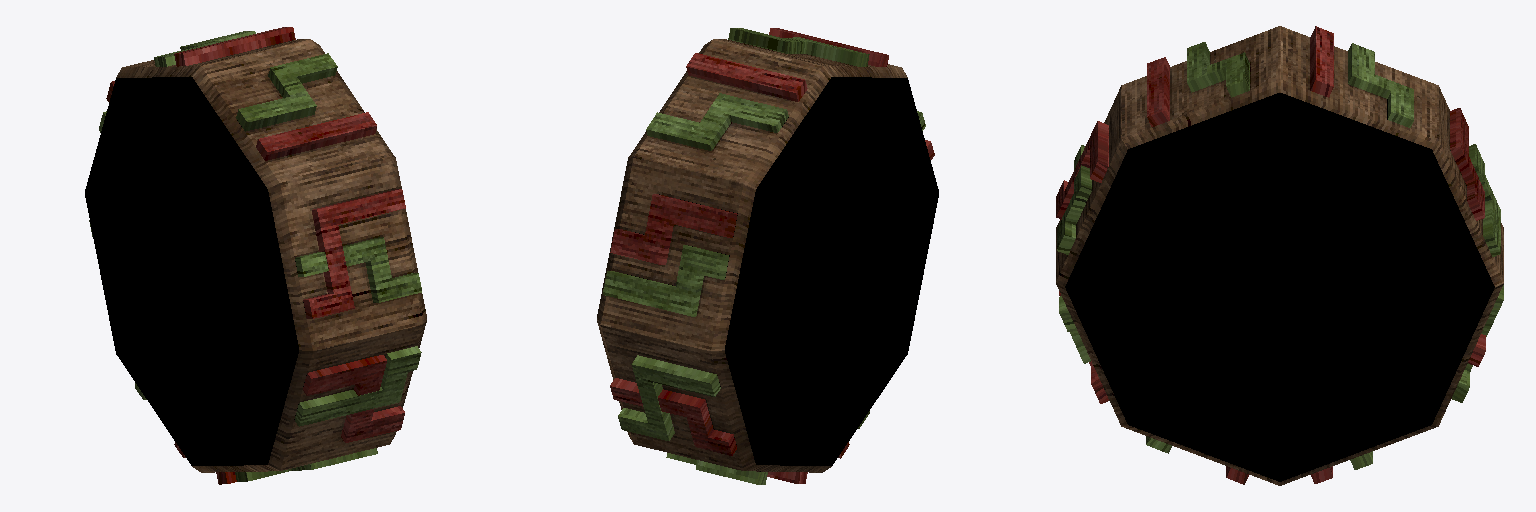
3 views of the same model, side by side, from view 1: azimuth 30°, elevation 25°; view 2: azimuth 150°, elevation 25°; view 3: azimuth 270°, elevation 25° (orthographic).
Visible parts, largest first — view 1: Codex_part5; view 2: Codex_part5; view 3: Codex_part5.
Boxes of the visible parts, <box> form: Codex_part5: <box>85,27,426,484</box>; Codex_part5: <box>597,28,938,484</box>; Codex_part5: <box>1056,26,1503,485</box>.
Bounding box in the file's own units: 22.19 × 67.37 × 67.37.
3 materials, 3 textured.